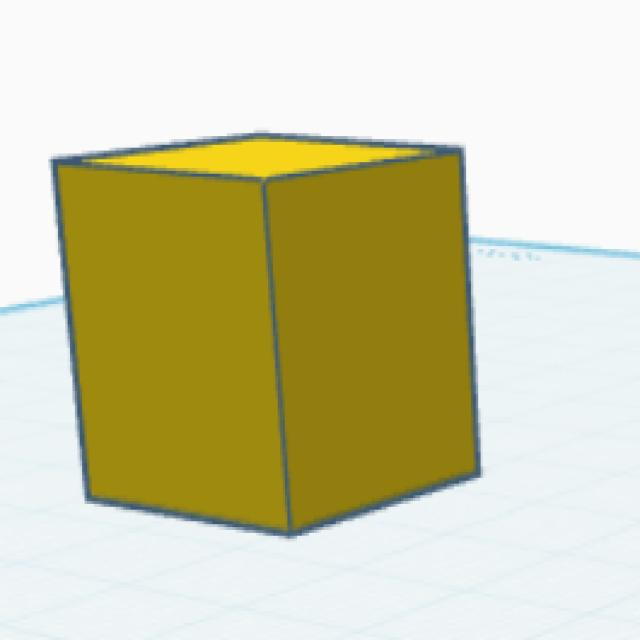cube: (46, 128, 486, 542)
